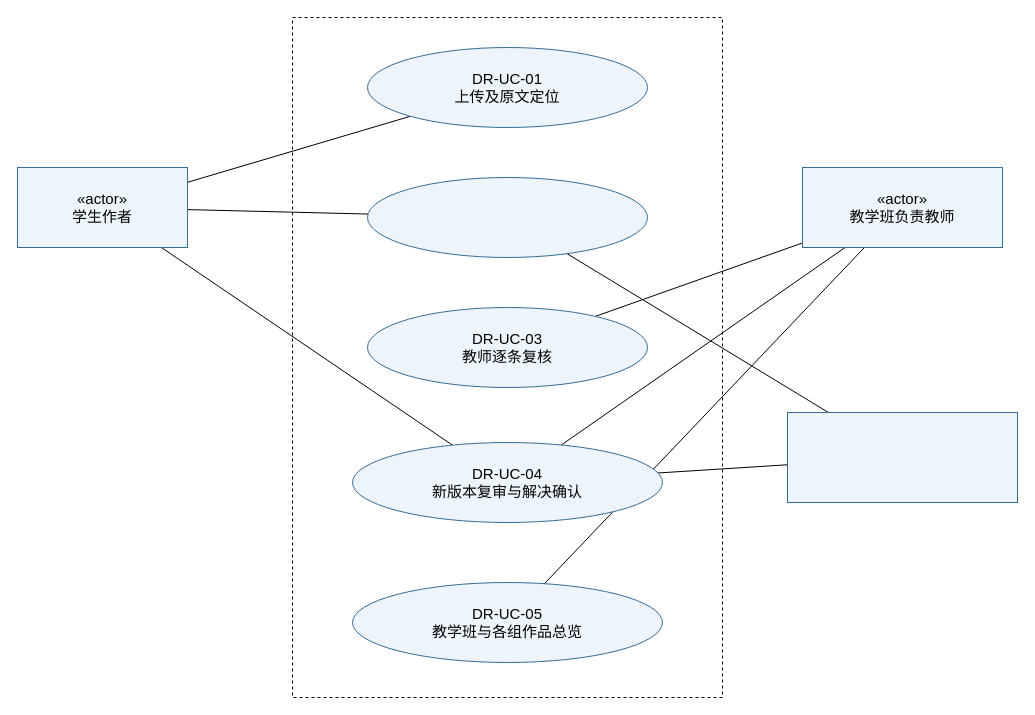
Some shapes in this 1035 by 715 pixel diagram are drawn without their labels. The box of each missing label's shape, as (x1, y1, x2, y2) in pixels:
DR-UC-02 生成四类问题候选: (366, 176, 648, 258)
«actor» 模型服务（原型模拟）: (786, 412, 1018, 502)
系统边界: (292, 16, 722, 698)
